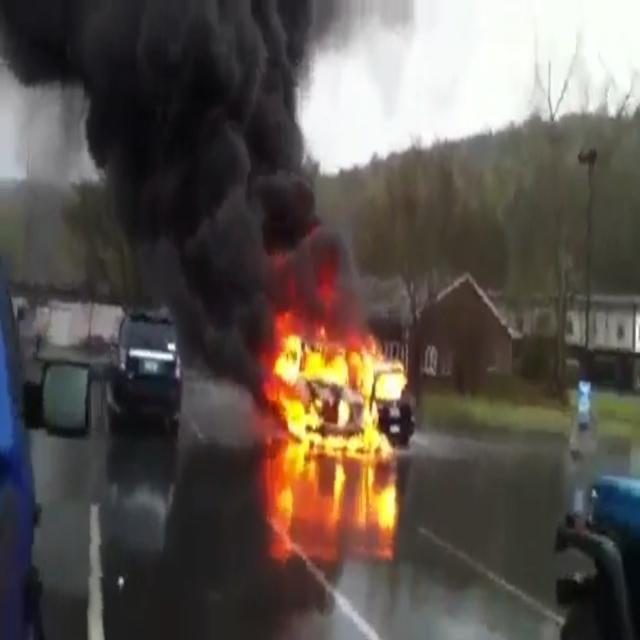fire: (260, 296, 362, 466), (362, 323, 418, 466)
